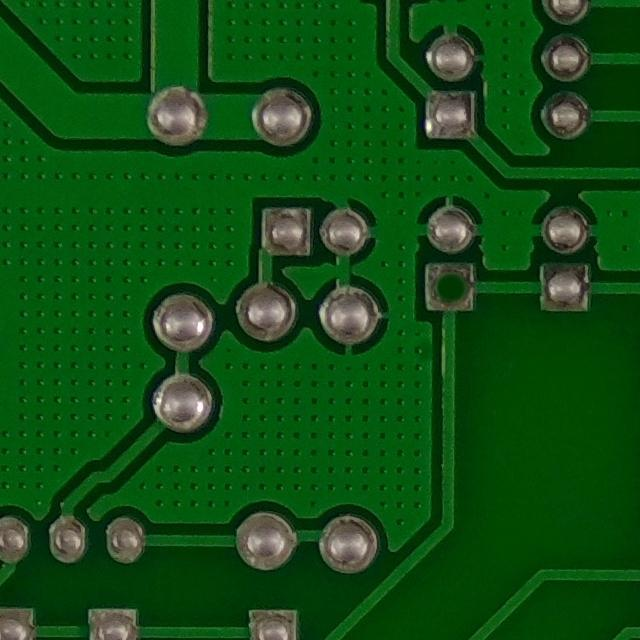missing_hole: (426, 262, 479, 316)
